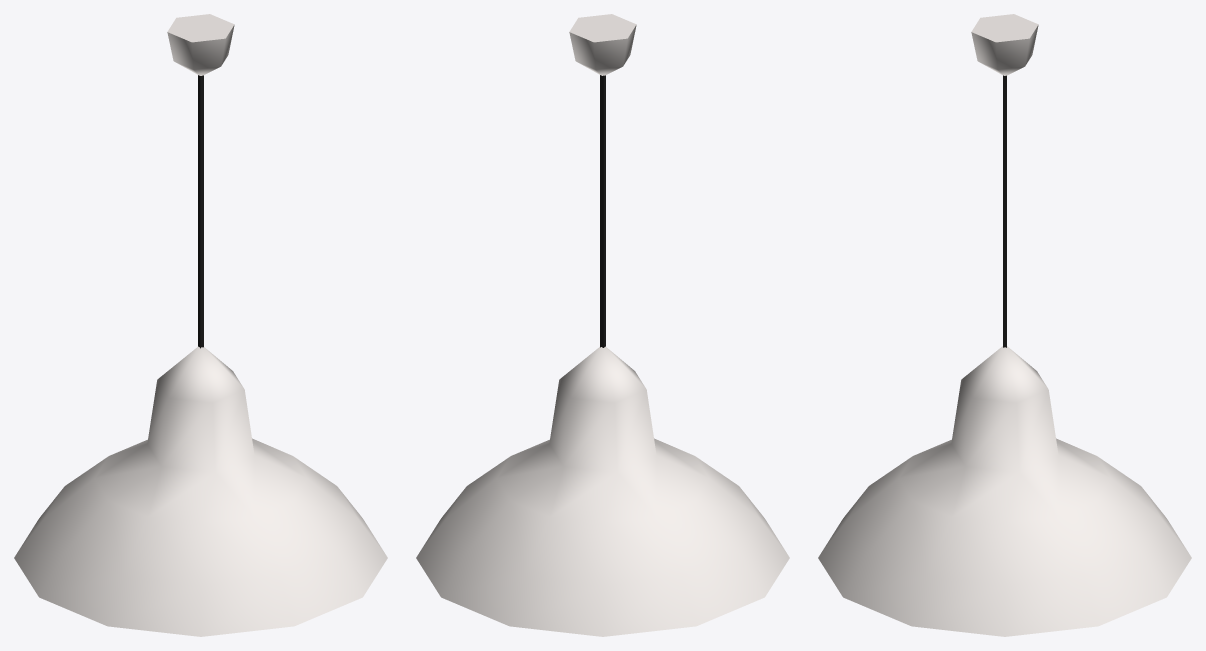
The model's file is lamp_026.glb.
The picture shows the model from 3 angles, left to right: view 1: azimuth 30°, elevation 25°; view 2: azimuth 150°, elevation 25°; view 3: azimuth 270°, elevation 25°; orthographic projection.
Visible parts, largest first — view 1: lamp_026; view 2: lamp_026; view 3: lamp_026.
Part boxes in pixels (bbox=[...]): lamp_026: bbox=[14, 14, 387, 636]; lamp_026: bbox=[416, 14, 789, 636]; lamp_026: bbox=[818, 14, 1191, 636].
Size of the model in its own units: 0.5467 by 0.8545 by 0.5467.
Materials: 1 (1 with a texture image).
